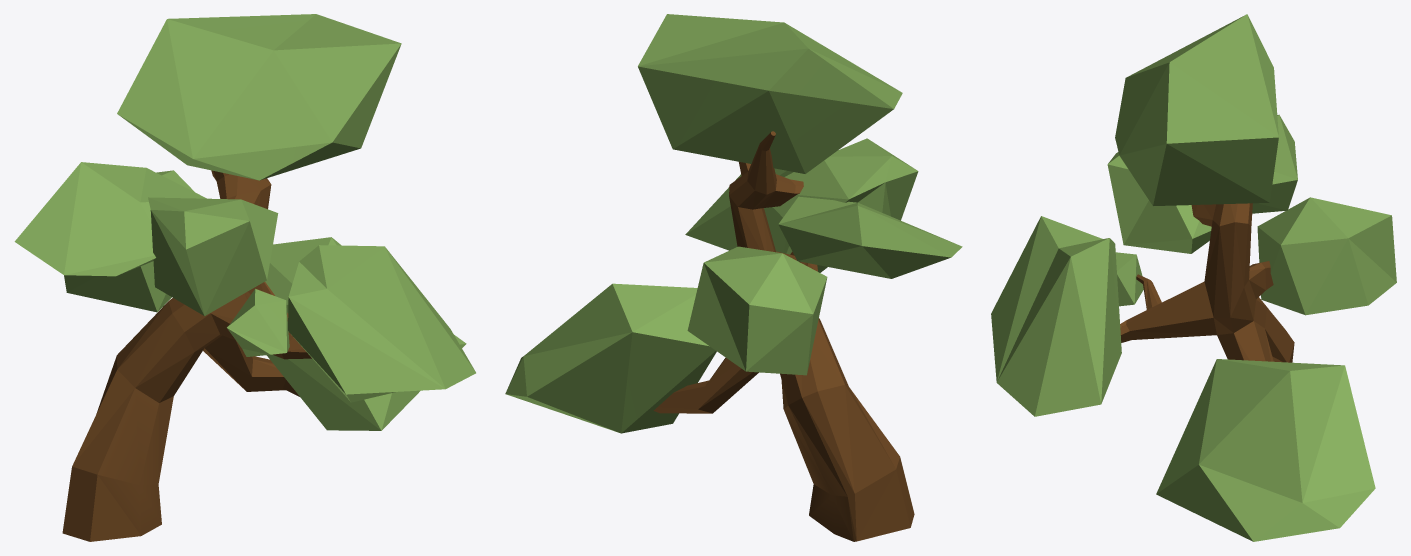
Rendered from Vegetation_Tree_Asian_04.fbx.
3 renders of one model, left to right at view 1: azimuth 30°, elevation 25°; view 2: azimuth 150°, elevation 25°; view 3: azimuth 270°, elevation 25°, orthographic. The views are drawn at different scales.
Visible parts, largest first — view 1: Vegetation_Tree_Asian_04; view 2: Vegetation_Tree_Asian_04; view 3: Vegetation_Tree_Asian_04.
Boxes of the visible parts, x1,y1,x2,y2 form: Vegetation_Tree_Asian_04: (14,14,475,541); Vegetation_Tree_Asian_04: (505,14,962,541); Vegetation_Tree_Asian_04: (991,14,1396,541).
Size of the model in its own units: 4761 by 4969 by 3820.
